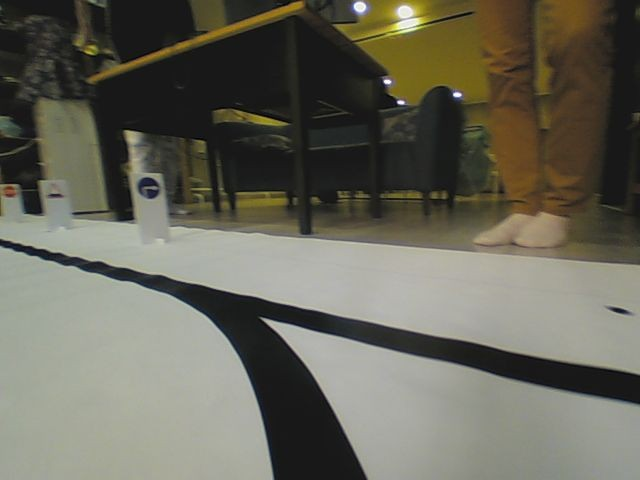Right: (136, 177, 160, 200)
